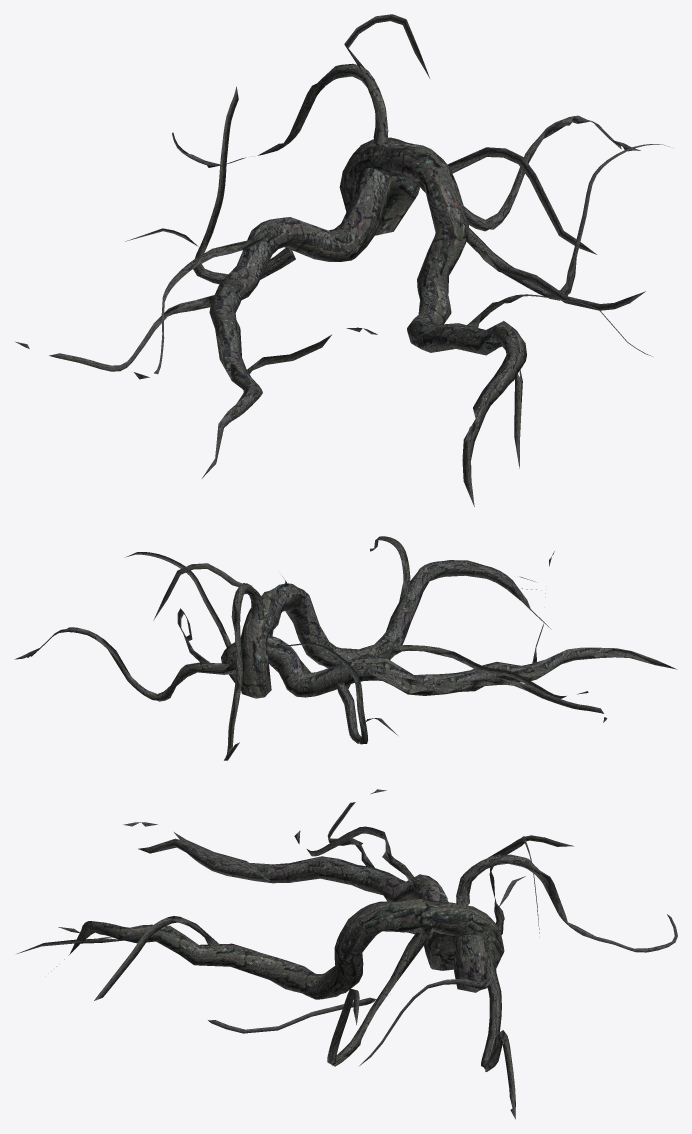
Rendered from roots_01_LOD3.FBX.
3 views of the same model, one above another, from view 1: azimuth 30°, elevation 25°; view 2: azimuth 150°, elevation 25°; view 3: azimuth 270°, elevation 25° (orthographic). The views are drawn at different scales.
Visible parts, largest first — view 1: Roots_1; view 2: Roots_1; view 3: Roots_1.
Part boxes in pixels (x1,y1,x2,y2): Roots_1: (15, 14, 669, 506); Roots_1: (14, 536, 677, 760); Roots_1: (17, 789, 677, 1119).
Size of the model in its own units: 5.78 by 1.95 by 5.42.
